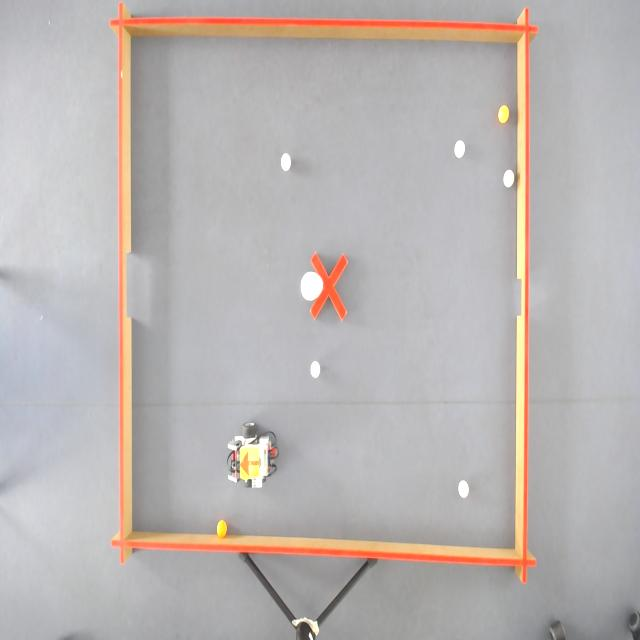cross: (310, 251, 350, 323)
egg: (299, 270, 324, 303)
orange_ball: (498, 103, 510, 126), (216, 516, 228, 539)
robot: (239, 444, 262, 480)
white_ball: (280, 150, 293, 173), (309, 359, 322, 381), (457, 478, 470, 500), (453, 138, 466, 160), (503, 167, 515, 189)
